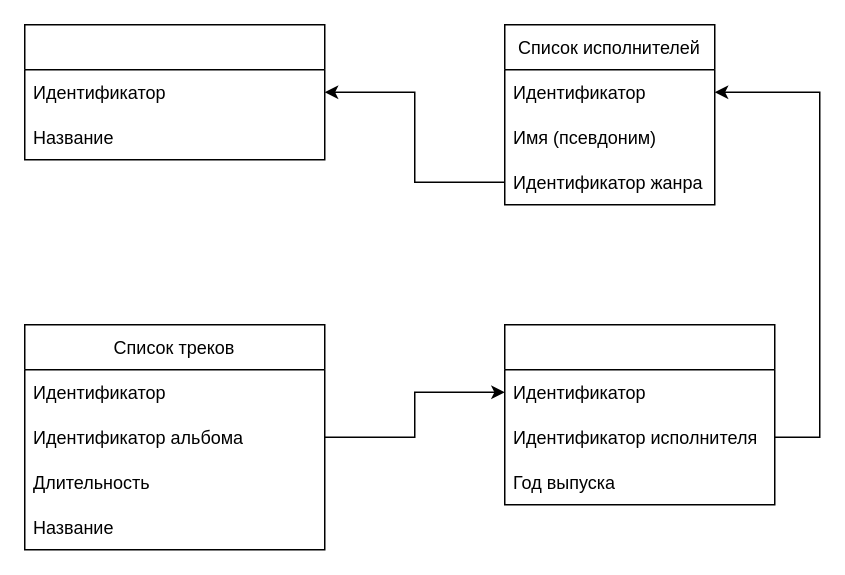
Image size: 845x575. Some labels were removed from this diagram. Here are the shapes that lost their labels. From the top down, the box of each, then its label:
(23, 23, 325, 160): Список жанров
(503, 323, 775, 505): Список альбомов
